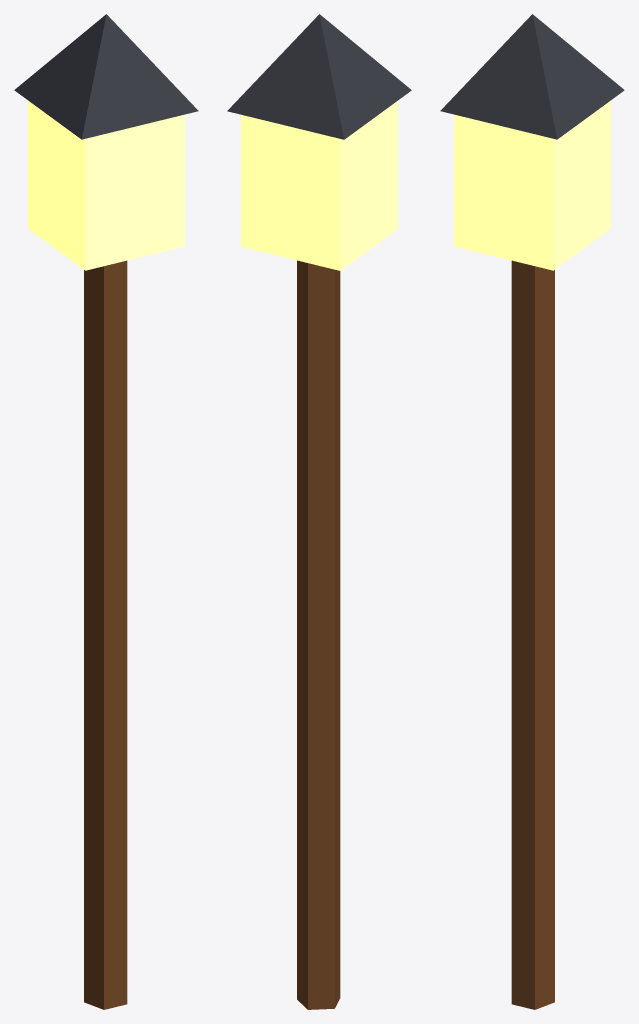
The model's file is palm_lantern_post.fbx.
3 views of the same model, side by side, from view 1: azimuth 30°, elevation 25°; view 2: azimuth 150°, elevation 25°; view 3: azimuth 330°, elevation 25° (orthographic).
Visible parts, largest first — view 1: palm_lantern_post; view 2: palm_lantern_post; view 3: palm_lantern_post.
Part boxes in pixels (x1,y1,x2,y2): palm_lantern_post: (14,14,198,1009); palm_lantern_post: (227,14,411,1009); palm_lantern_post: (440,14,624,1009).
Bounding box in the file's own units: 0.3536 × 2.85 × 0.3536.
